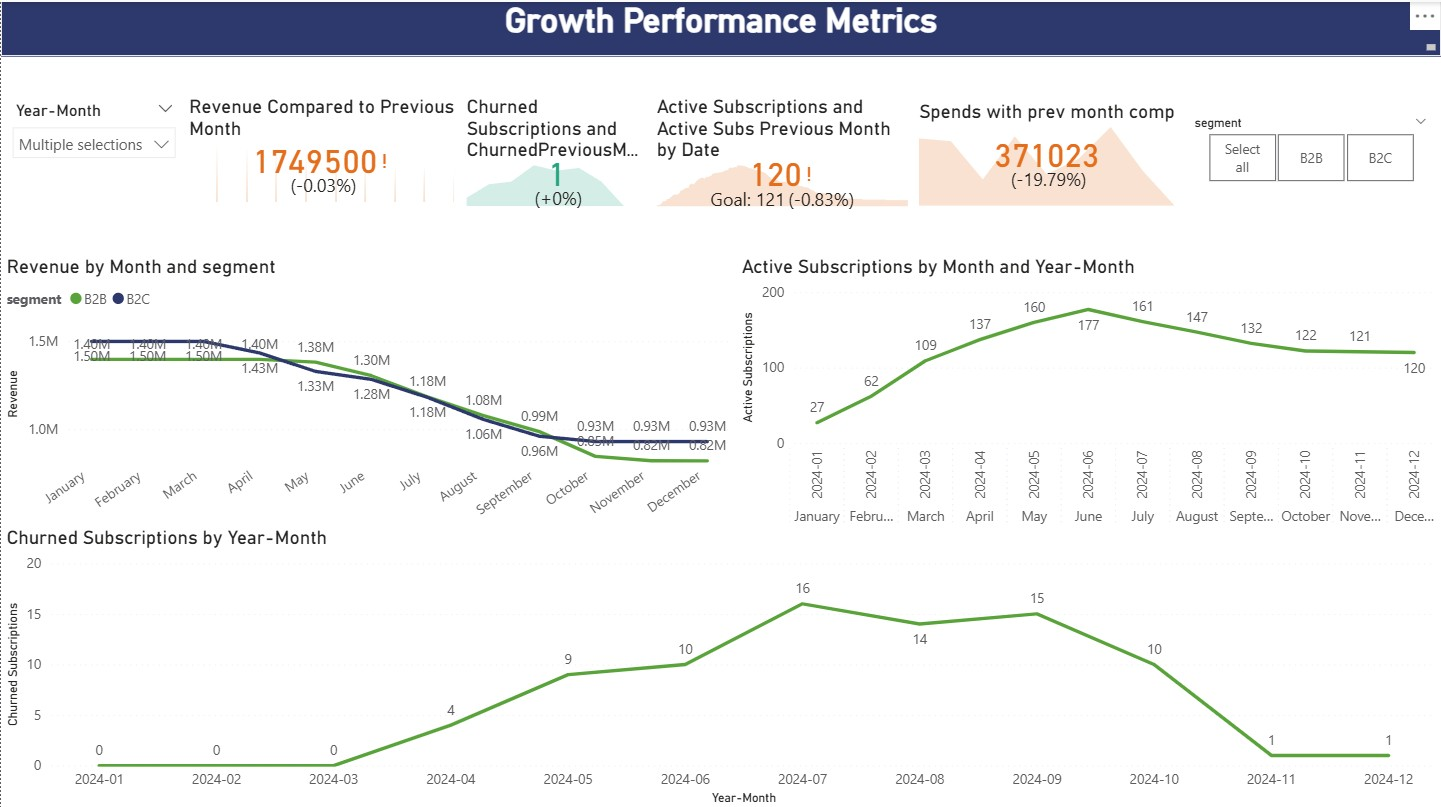

The page's visual inventory and layout, read from the dashboard file:
{"tool":"powerbi","page":{"name":"Page 1","canvas":[1280,720],"ordinal":0},"visuals":[{"type":"lineChart","fields":{"Y":["Sum(revenue.amount)"],"Category":["Calendar.Date.Variation.Date Hierarchy.Month"],"Series":["revenue.segment"]},"box":[0,226.2,653,264.1],"z":0},{"type":"slicer","fields":{"Values":["customers.segment"]},"box":[1048.2,97.4,231.8,70.6],"z":1000},{"type":"kpi","title":"Revenue Compared to Previous Month","fields":{"TrendLine":["Calendar.Date.Variation.Date Hierarchy.Month"],"Goal":["revenue.Previous Month Revenue"],"Indicator":["revenue.LatestKPI"]},"box":[162.8,84.9,233.7,100],"z":2000},{"type":"kpi","title":"Spends with prev month comp","fields":{"Indicator":["marketing_spend.LatestSpends"],"Goal":["marketing_spend.Previous Month Spends"],"TrendLine":["Calendar.Year-Month"]},"box":[810.7,89.3,237.2,99],"z":3000},{"type":"kpi","fields":{"Goal":["subscriptions.Active Subs Previous Month"],"TrendLine":["Calendar.Date.Variation.Date Hierarchy.Month"],"Indicator":["subscriptions.Active Subscriptions"]},"box":[577.8,84,233.5,104.1],"z":4000},{"type":"lineChart","fields":{"Y":["subscriptions.Active Subscriptions"],"Category":["Calendar.Date.Variation.Date Hierarchy.Month","Calendar.Year-Month"]},"box":[653,226.2,627.3,264.1],"z":5000},{"type":"textbox","title":"Growth Performance Metrics","box":[0,0,1280.3,50.1],"z":6000},{"type":"slicer","fields":{"Values":["Calendar.Year-Month"]},"box":[0,84.4,165.1,74.6],"z":7000},{"type":"lineChart","fields":{"Y":["subscriptions.Churned Subscriptions"],"Category":["Calendar.Year-Month"]},"box":[0,468,1280.3,252.7],"z":8000},{"type":"kpi","fields":{"Indicator":["subscriptions.Churned Subscriptions"],"Goal":["subscriptions.ChurnedPreviousMOnth"],"TrendLine":["Calendar.Year-Month"]},"box":[408.4,84.4,170,103.9],"z":9000}]}

Visuals, with their boxes in screenshot pixels (x1, y1, x2, y2), scaled from the page's 1280x720 canvas onto the 1441x807 screenshot:
lineChart - Sum(revenue.amount) x Calendar.Date.Variation.Date Hierarchy.Month: bbox=[0, 254, 735, 550]
slicer - customers.segment: bbox=[1180, 109, 1440, 188]
"Revenue Compared to Previous Month" kpi: bbox=[183, 95, 446, 207]
"Spends with prev month comp" kpi: bbox=[913, 100, 1180, 211]
kpi - subscriptions.Active Subs Previous Month x Calendar.Date.Variation.Date Hierarchy.Month: bbox=[650, 94, 913, 211]
lineChart - subscriptions.Active Subscriptions x Calendar.Date.Variation.Date Hierarchy.Month: bbox=[735, 254, 1440, 550]
"Growth Performance Metrics" textbox: bbox=[0, 0, 1440, 56]
slicer - Calendar.Year-Month: bbox=[0, 95, 186, 178]
lineChart - subscriptions.Churned Subscriptions x Calendar.Year-Month: bbox=[0, 525, 1440, 806]
kpi - subscriptions.Churned Subscriptions x subscriptions.ChurnedPreviousMOnth: bbox=[460, 95, 651, 211]
